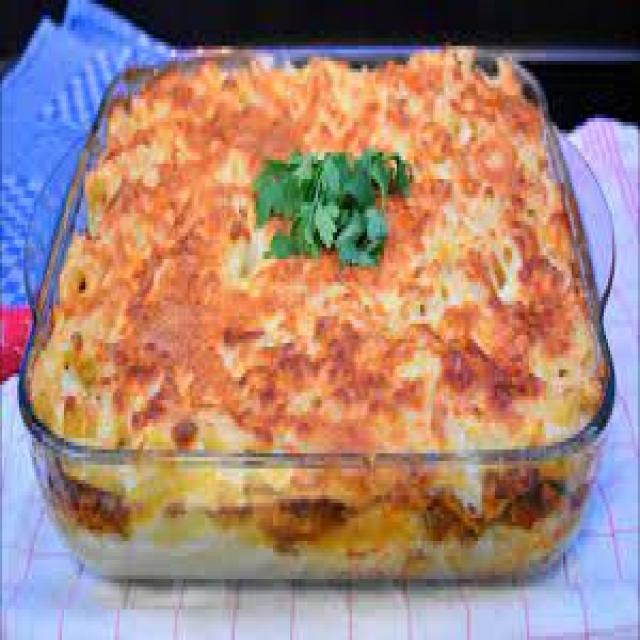Bechamel: (33, 56, 608, 554)
